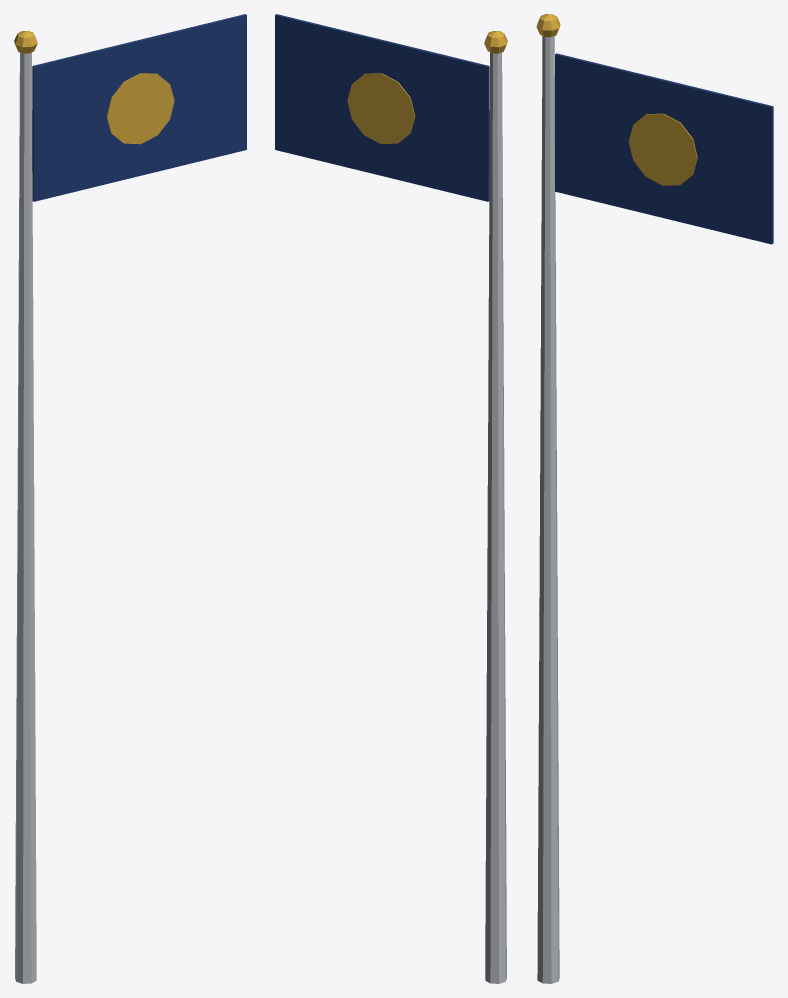
File: PD_FlagPole_State.fbx
The picture shows the model from 3 angles, left to right: view 1: azimuth 30°, elevation 25°; view 2: azimuth 150°, elevation 25°; view 3: azimuth 330°, elevation 25°; orthographic projection.
Visible parts, largest first — view 1: PD_FlagPole_State_Mesh; view 2: PD_FlagPole_State_Mesh; view 3: PD_FlagPole_State_Mesh.
Boxes of the visible parts, x1,y1,x2,y2 form: PD_FlagPole_State_Mesh: (14,14,246,983); PD_FlagPole_State_Mesh: (275,14,507,983); PD_FlagPole_State_Mesh: (536,14,773,983).
Bounding box in the file's own units: 2.6 × 10.2 × 0.24.
